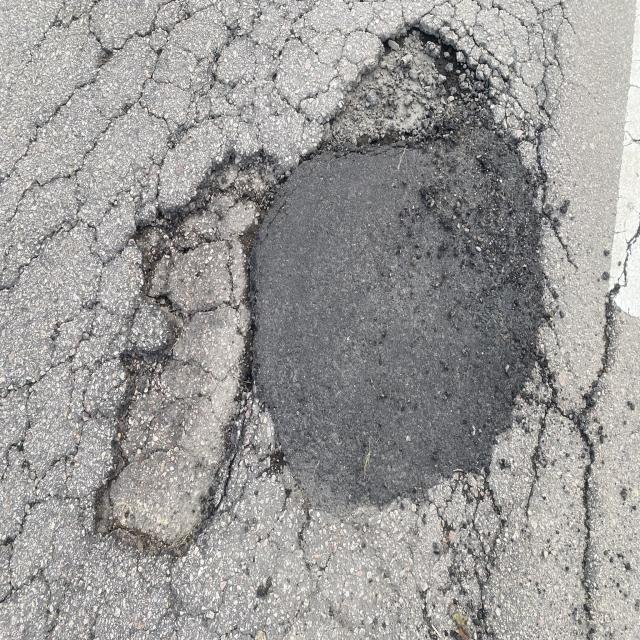pothole: (117, 103, 394, 611), (300, 14, 552, 223)
